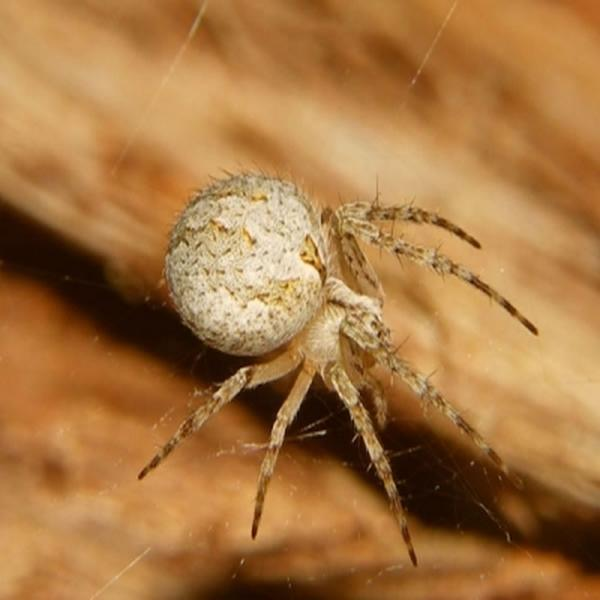Garden Orb Weaver Spider: (140, 173, 519, 550)
